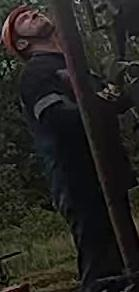gloves: (104, 56, 129, 93)
helmet: (1, 6, 35, 62)
vest: (18, 51, 127, 211)
